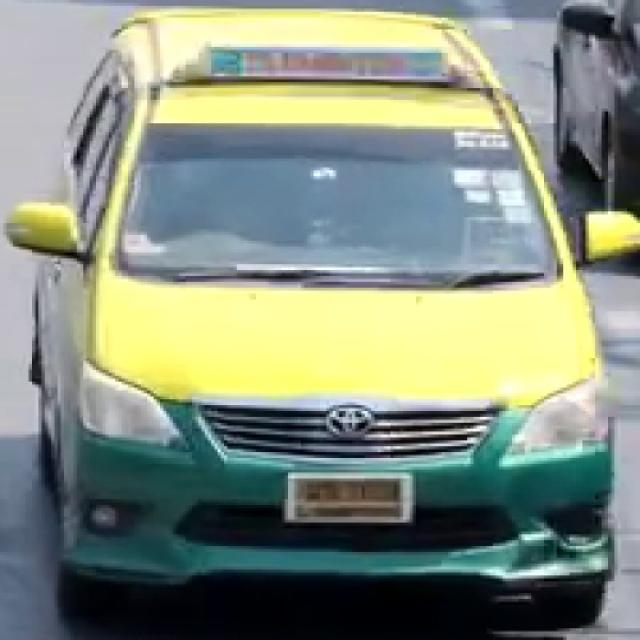plate: (291, 473, 414, 523)
